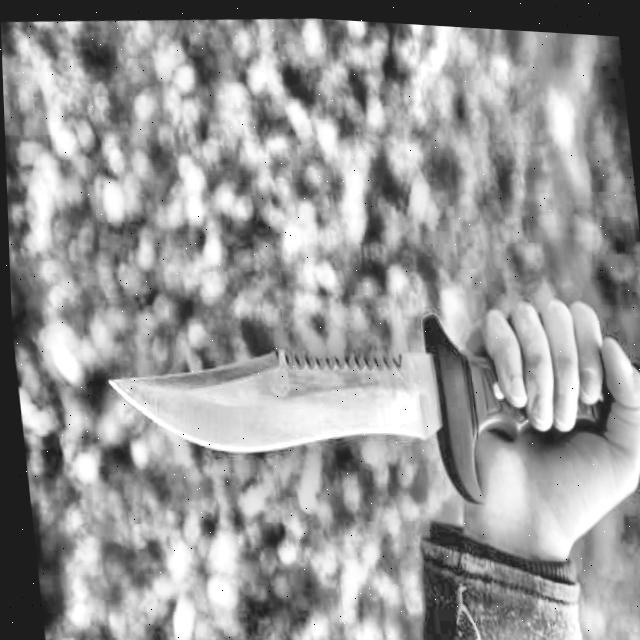pisau: (88, 254, 640, 543)
